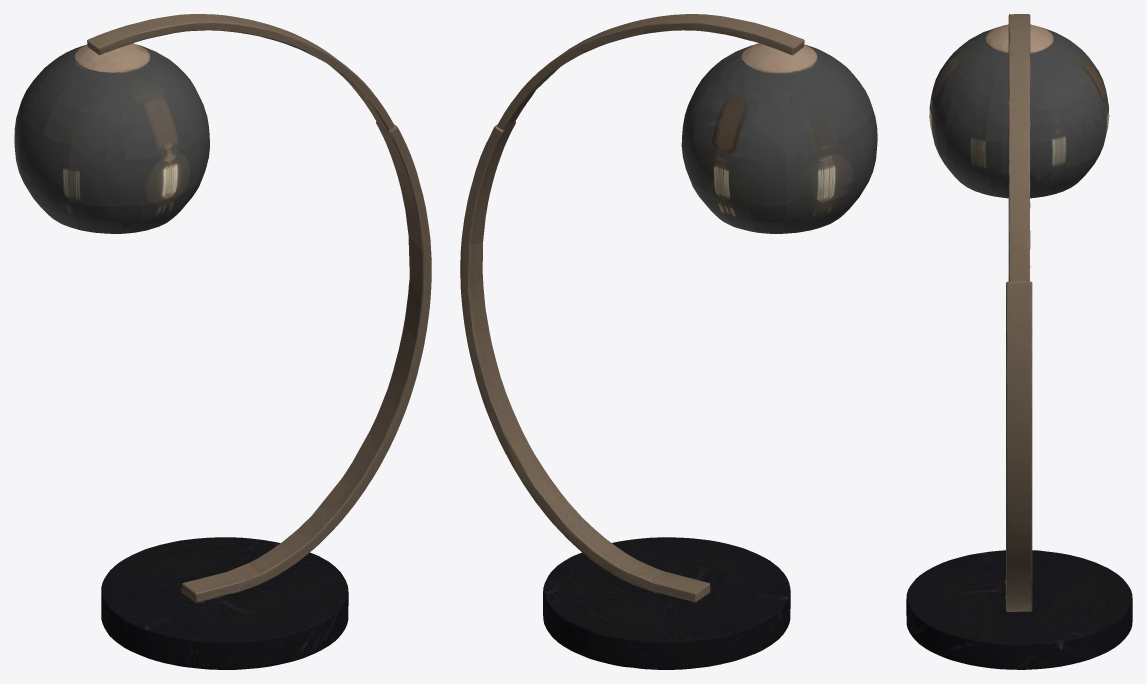
The model's file is suite-floor-lamp.glb.
The picture shows the model from 3 angles, left to right: view 1: azimuth 30°, elevation 25°; view 2: azimuth 150°, elevation 25°; view 3: azimuth 270°, elevation 25°; orthographic projection. The views are drawn at different scales.
Parts seen in each view (by area): view 1: output_unwrapped; view 2: output_unwrapped; view 3: output_unwrapped.
Boxes of the visible parts, bbox=[...] form: output_unwrapped: bbox=[14, 14, 431, 669]; output_unwrapped: bbox=[460, 14, 877, 669]; output_unwrapped: bbox=[906, 14, 1132, 669].
Bounding box in the file's own units: 1.3 × 1.9 × 0.7021.
Materials: 1 (1 with a texture image).
